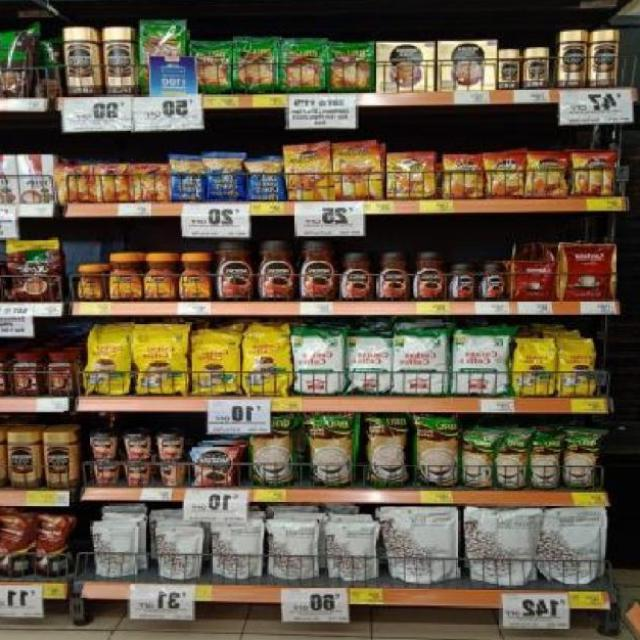Coffee: (286, 143, 331, 201), (336, 142, 381, 199), (216, 241, 256, 300), (257, 239, 296, 299), (65, 29, 98, 96), (387, 152, 435, 198), (299, 239, 335, 299), (103, 28, 134, 95), (526, 154, 568, 197), (43, 432, 74, 489), (410, 252, 446, 300), (443, 155, 483, 198), (557, 30, 587, 87), (588, 30, 618, 87), (106, 254, 144, 299), (575, 153, 614, 196), (486, 152, 524, 196), (9, 431, 38, 487), (340, 253, 375, 299), (193, 449, 235, 487), (377, 253, 410, 300), (144, 253, 177, 299), (178, 253, 210, 300), (524, 48, 549, 88), (450, 264, 476, 299), (481, 265, 507, 300), (77, 266, 104, 299), (499, 50, 520, 89)
